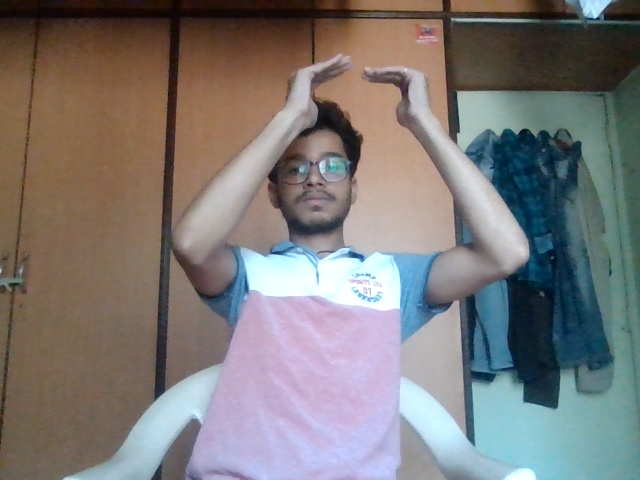afternoon: (270, 41, 466, 141)
